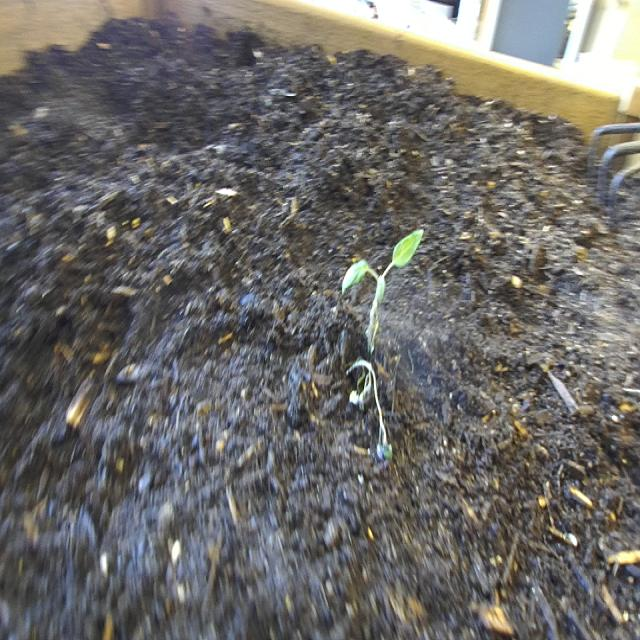Unhealthy: (340, 224, 428, 359), (345, 353, 396, 464)
